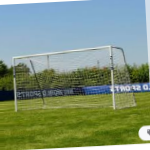goals: (11, 44, 138, 113)
